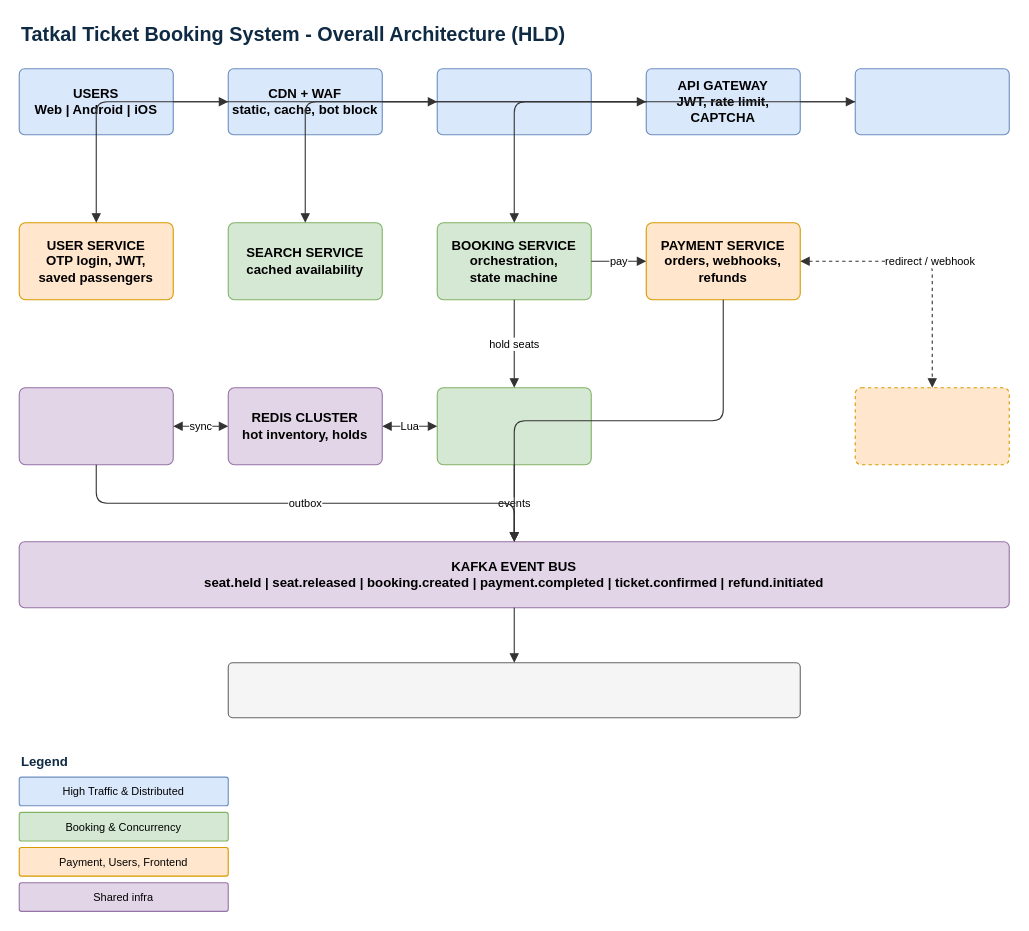
The diagram is 1029 pixels wide and 931 high, and some of its shapes have lost their labels. Each missing label, with the centre of its shape:
"DOWNSTREAM CONSUMERS: Notification | Analytics | Reconciliation | Waitlist" goes at [513,690].
"GLOBAL DNS + L7 LB region routing, health" goes at [513,101].
"INVENTORY SERVICE atomic hold / release" goes at [513,426].
"MYSQL (SHARDED) source of truth" goes at [95,426].
"PAYMENT GATEWAY UPI | Cards | NetBank (external)" goes at [931,426].
"WAITING ROOM fair queue tokens" goes at [931,101].
